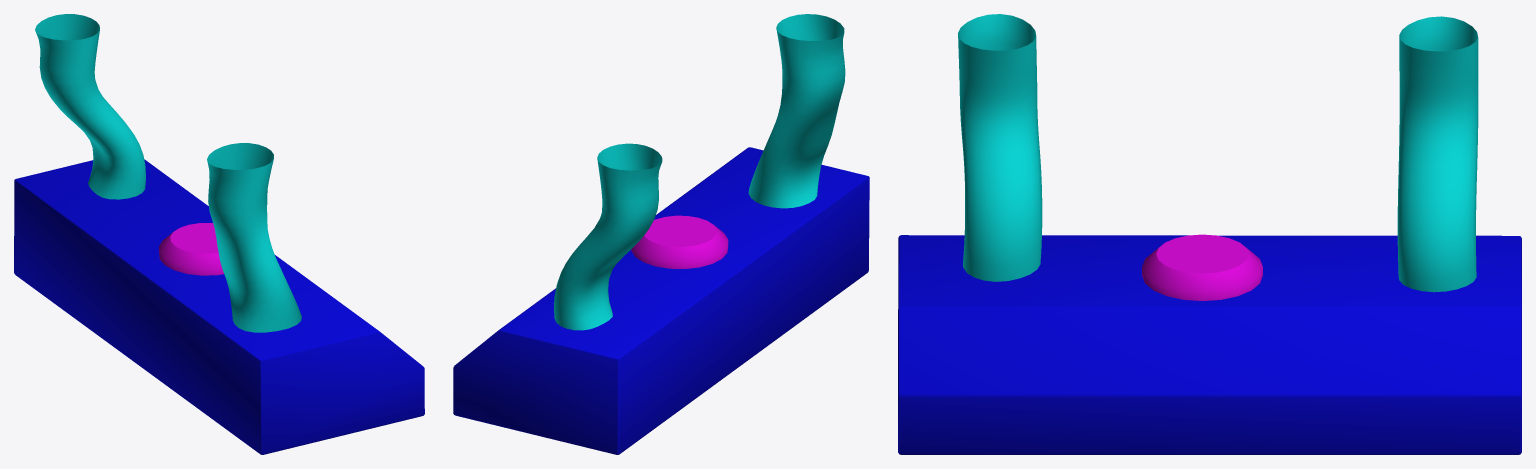
File: Air_Extraction.fbx
3 views of the same model, side by side, from view 1: azimuth 30°, elevation 25°; view 2: azimuth 150°, elevation 25°; view 3: azimuth 270°, elevation 25° (orthographic). The views are drawn at different scales.
Visible parts, largest first — view 1: Air_Extraction; view 2: Air_Extraction; view 3: Air_Extraction.
Part boxes in pixels (bbox=[...]): Air_Extraction: bbox=[14, 14, 424, 454]; Air_Extraction: bbox=[453, 14, 869, 454]; Air_Extraction: bbox=[898, 14, 1521, 454].
Size of the model in its own units: 59.12 by 85.31 by 144.
